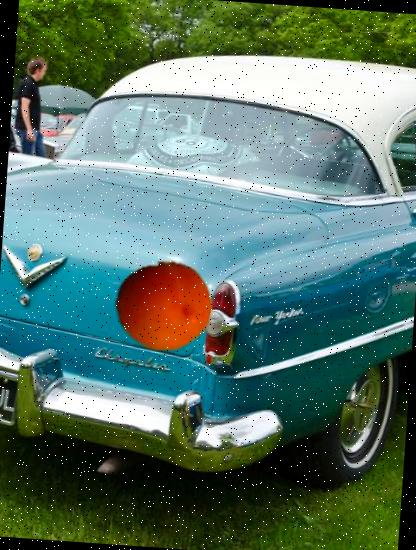Apricot: (111, 254, 216, 358)
